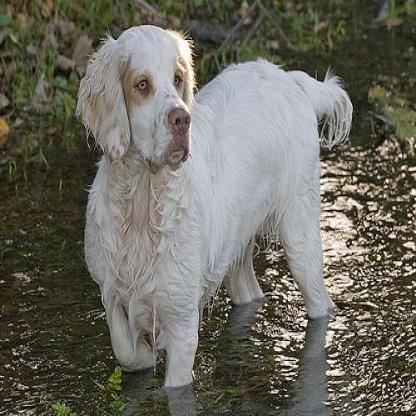clumber: (73, 23, 353, 386)
